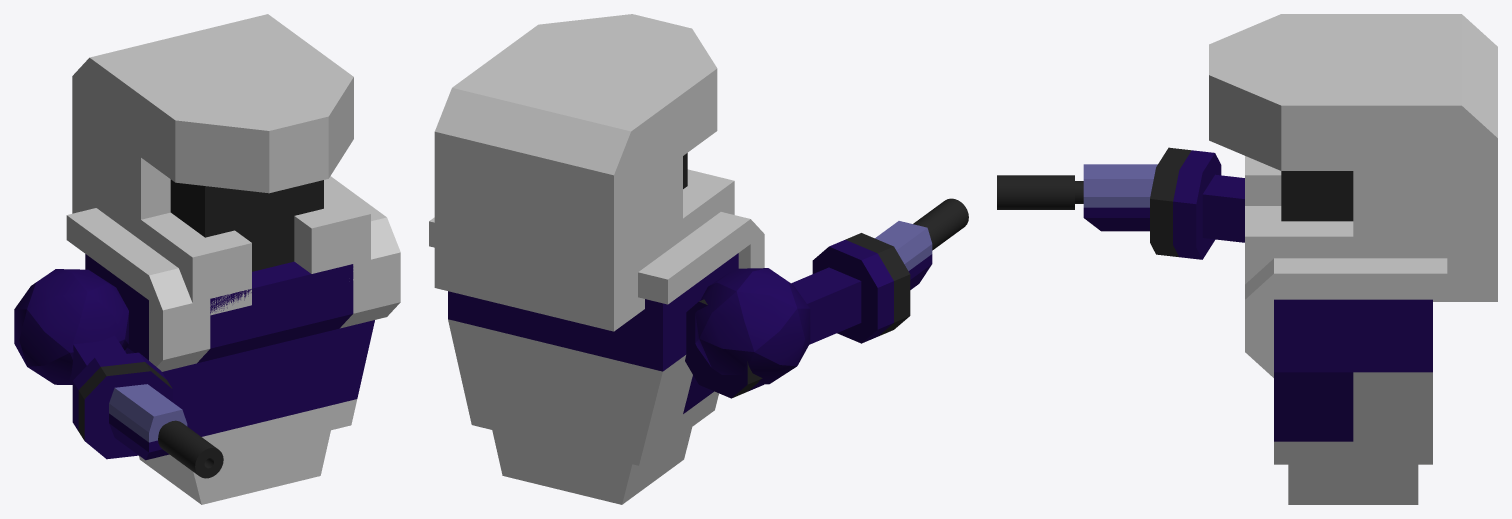
The model's file is enemy_1.fbx.
3 views of the same model, side by side, from view 1: azimuth 30°, elevation 25°; view 2: azimuth 150°, elevation 25°; view 3: azimuth 270°, elevation 25° (orthographic). The views are drawn at different scales.
Parts seen in each view (by area): view 1: head_knight, chest_humanoid, icosphere, socket_double, mediumBlaster_barrelSilencer; view 2: head_knight, chest_humanoid, socket_double, icosphere, mediumBlaster_barrelSilencer; view 3: head_knight, chest_humanoid, socket_double, mediumBlaster_barrelSilencer.
Part boxes in pixels (<box>): head_knight: <box>72,14,370,319</box>; chest_humanoid: <box>66,176,400,504</box>; icosphere: <box>14,269,128,384</box>; socket_double: <box>69,335,172,459</box>; mediumBlaster_barrelSilencer: <box>109,384,223,478</box>; head_knight: <box>434,14,734,331</box>; chest_humanoid: <box>429,212,764,504</box>; socket_double: <box>685,233,910,398</box>; icosphere: <box>695,268,810,384</box>; mediumBlaster_barrelSilencer: <box>875,198,968,289</box>; head_knight: <box>1209,14,1497,301</box>; chest_humanoid: <box>1245,258,1447,504</box>; socket_double: <box>1150,147,1244,259</box>; mediumBlaster_barrelSilencer: <box>997,164,1157,231</box>.
Bounding box in the file's own units: 8.82 × 9.5 × 10.4.
